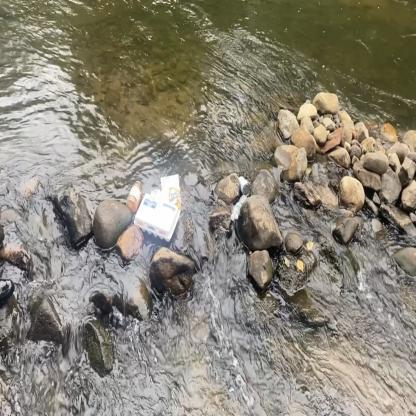trash: (132, 189, 182, 246), (156, 170, 184, 216), (125, 177, 145, 215), (228, 192, 249, 224), (237, 172, 251, 200)
